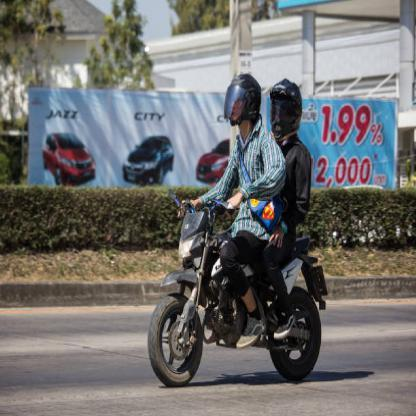Motorcycle: (143, 193, 325, 391)
